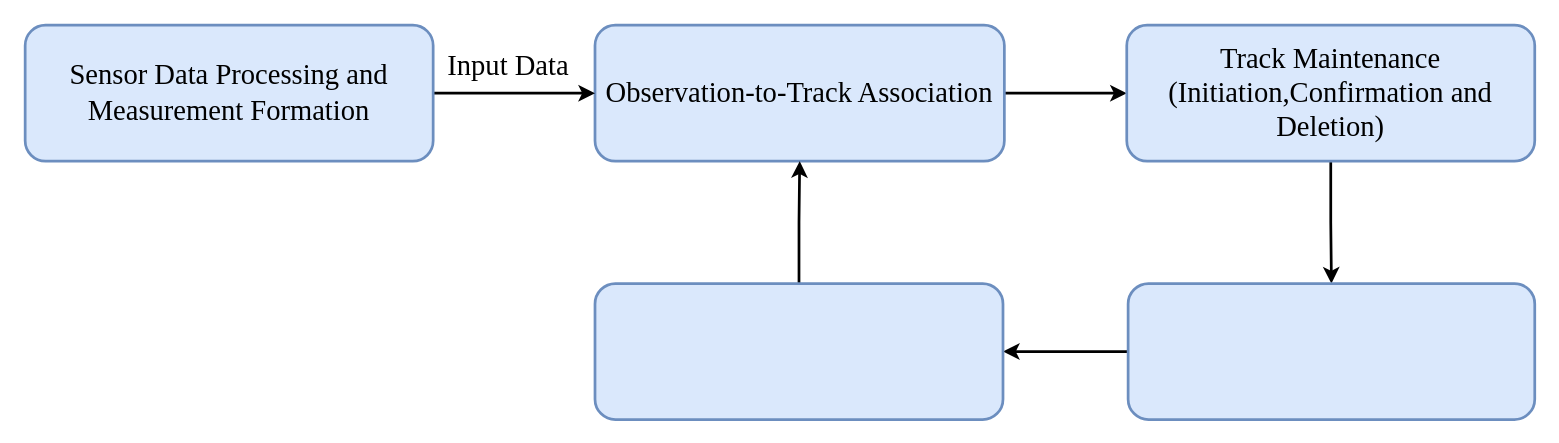
Image size: 1559x443. Some labels were removed from this diagram. The shapes that lost their labels are listed below. From the top down, each one's centre as x and y in pixels, then its label:
At (x=798, y=351): "Gating Computations".
At (x=1330, y=351): "State filtering and Prediction".
